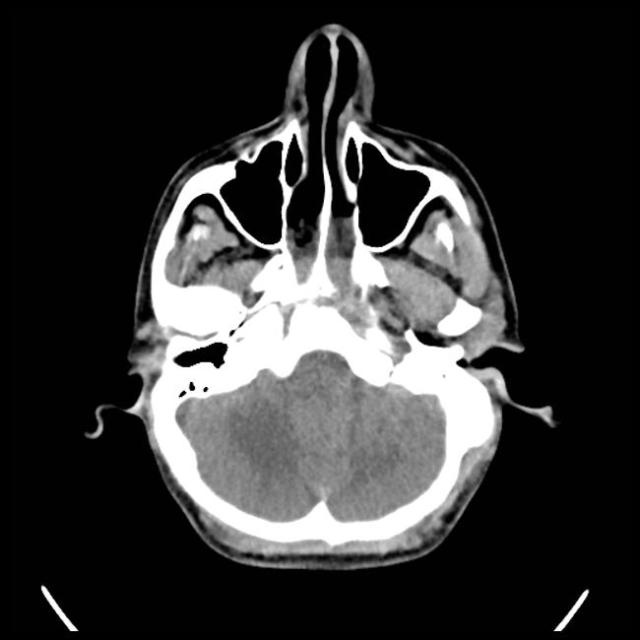lesion: (86, 21, 559, 574)
